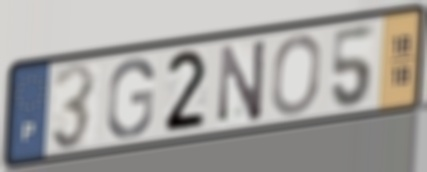2: (163, 47, 211, 135)
3: (50, 59, 102, 154)
5: (329, 20, 374, 111)
G: (104, 55, 157, 141)
N: (216, 35, 269, 126)
O: (268, 32, 324, 118)
